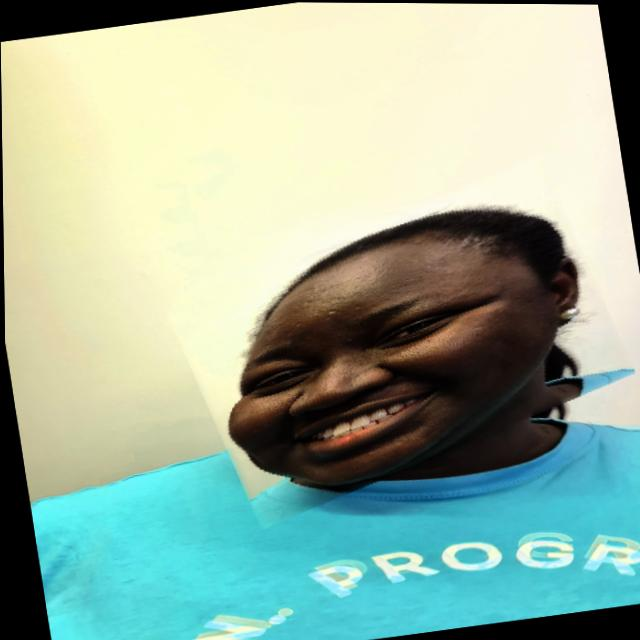happy: (164, 168, 636, 514)
